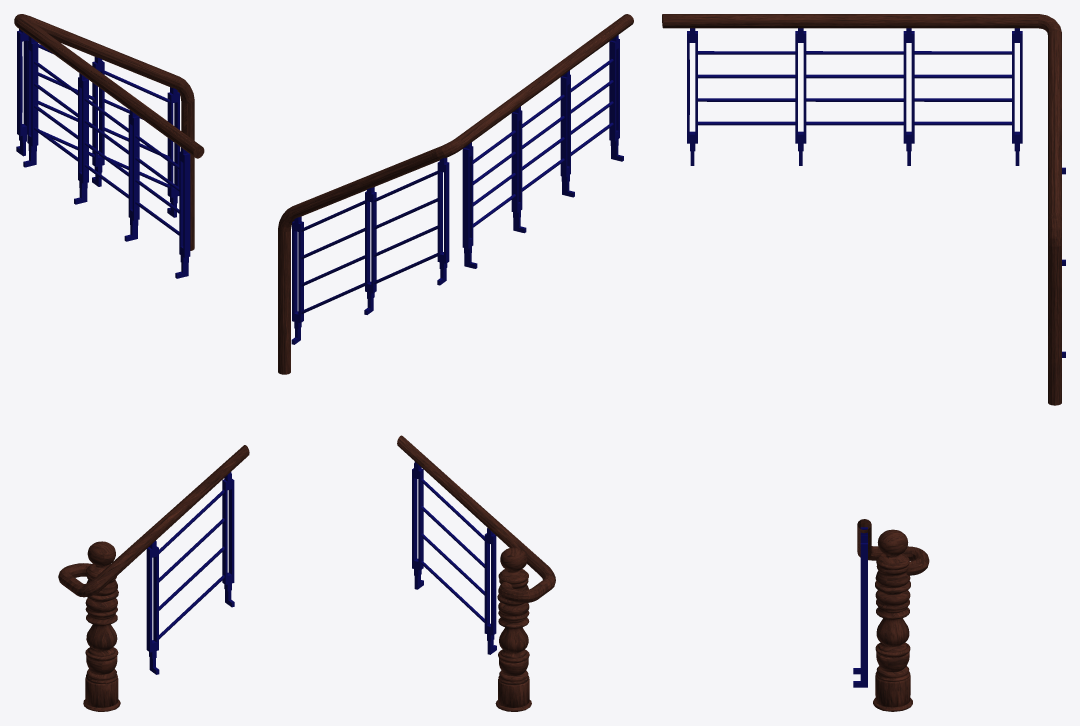
File: StairHandle.fbx
3 views of the same model, side by side, from view 1: azimuth 30°, elevation 25°; view 2: azimuth 150°, elevation 25°; view 3: azimuth 270°, elevation 25° (orthographic). The views are drawn at different scales.
Parts seen in each view (by area): view 1: Stair_Handrail; view 2: Stair_Handrail; view 3: Stair_Handrail.
Part boxes in pixels (x1=…): Stair_Handrail: x1=14, y1=14, x2=249, y2=711; Stair_Handrail: x1=278, y1=14, x2=633, y2=711; Stair_Handrail: x1=662, y1=14, x2=1065, y2=711.
Size of the model in its own units: 138 by 418 by 224.
2 materials, 1 textured.
